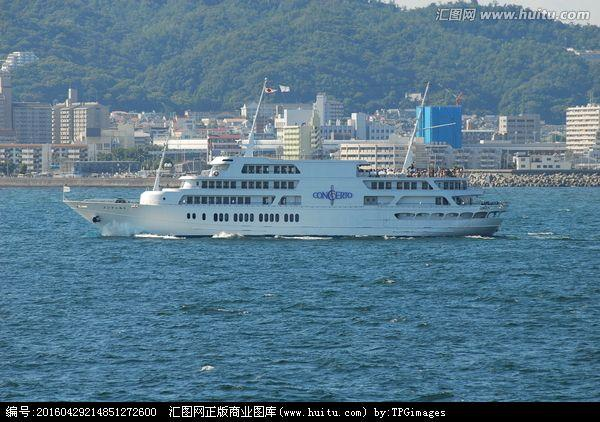youlun: (50, 132, 510, 240)
